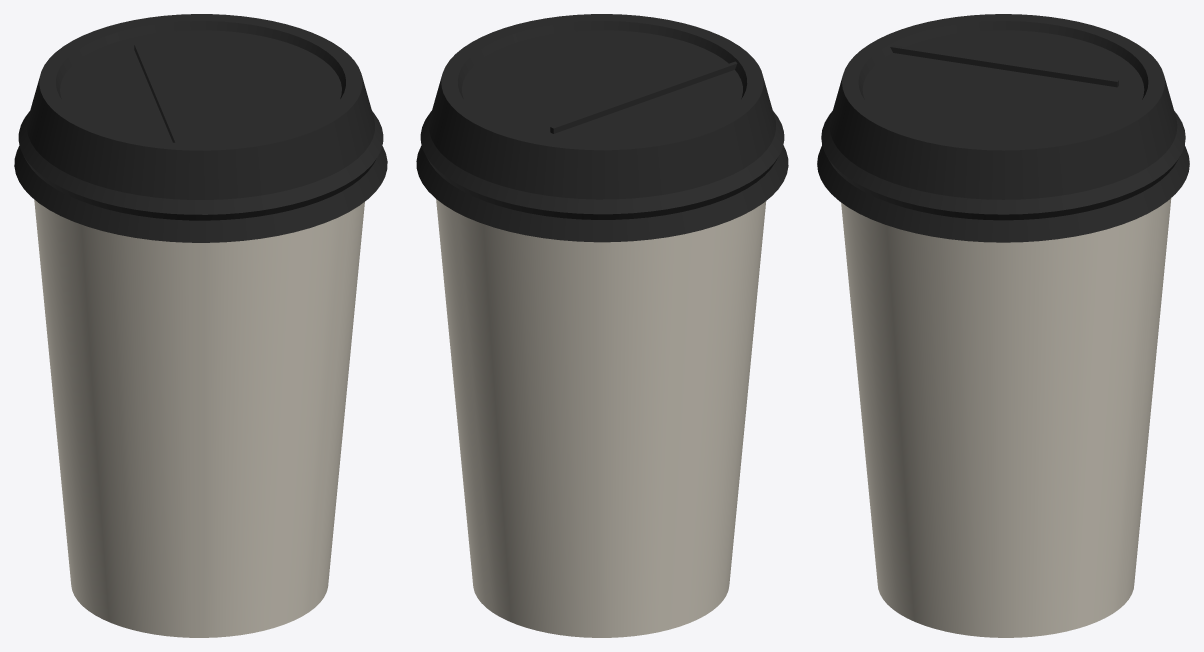
Rendered from simready-food_beverage_coffeeCup_h01.glb.
3 views of the same model, side by side, from view 1: azimuth 30°, elevation 25°; view 2: azimuth 150°, elevation 25°; view 3: azimuth 270°, elevation 25° (orthographic).
Parts seen in each view (by area): view 1: paper_cup, lid_shell; view 2: paper_cup, lid_shell; view 3: paper_cup, lid_shell.
Boxes of the visible parts, box(x1,y1,x2,y2) form: paper_cup: box(34, 199, 364, 637); lid_shell: box(14, 14, 387, 242); paper_cup: box(436, 199, 766, 637); lid_shell: box(416, 14, 788, 242); paper_cup: box(841, 198, 1171, 637); lid_shell: box(817, 14, 1189, 242).
Size of the model in its own units: 0.09 by 0.1336 by 0.09.
